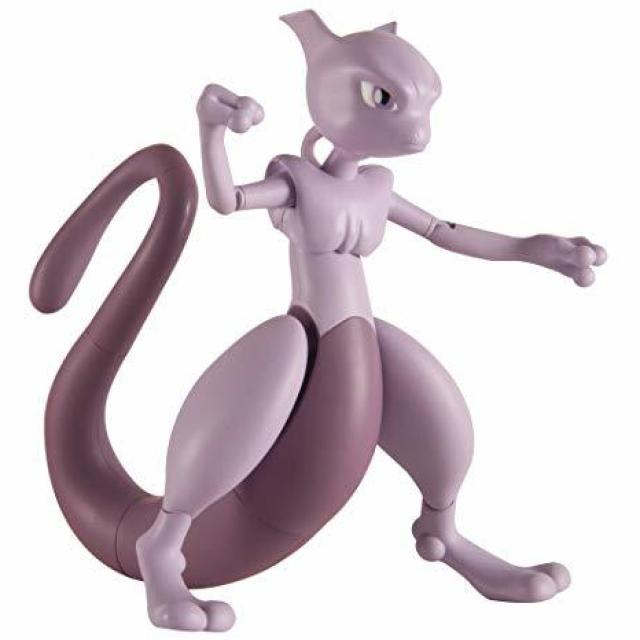Mewtwo: (172, 15, 473, 552)
